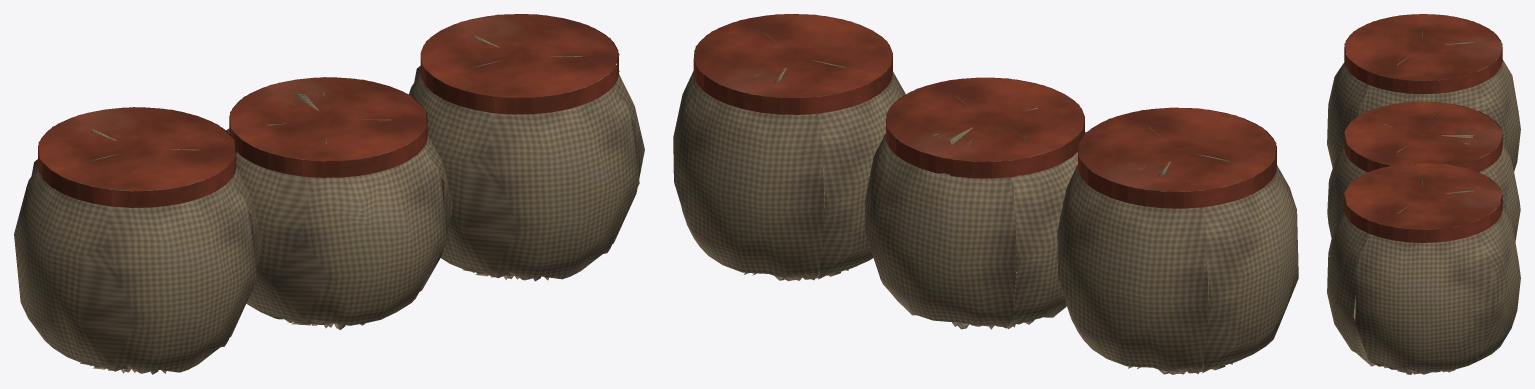
Rendered from W19_SpiceSacks.glb.
3 views of the same model, side by side, from view 1: azimuth 30°, elevation 25°; view 2: azimuth 150°, elevation 25°; view 3: azimuth 270°, elevation 25° (orthographic). The views are drawn at different scales.
Parts seen in each view (by area): view 1: W19_SpiceSacks; view 2: W19_SpiceSacks; view 3: W19_SpiceSacks.
Part boxes in pixels (bbox=[...]): W19_SpiceSacks: bbox=[14, 14, 644, 374]; W19_SpiceSacks: bbox=[673, 14, 1298, 374]; W19_SpiceSacks: bbox=[1327, 14, 1520, 374].
Bounding box in the file's own units: 0.7004 × 0.2266 × 0.2492.
2 materials, 2 textured.
